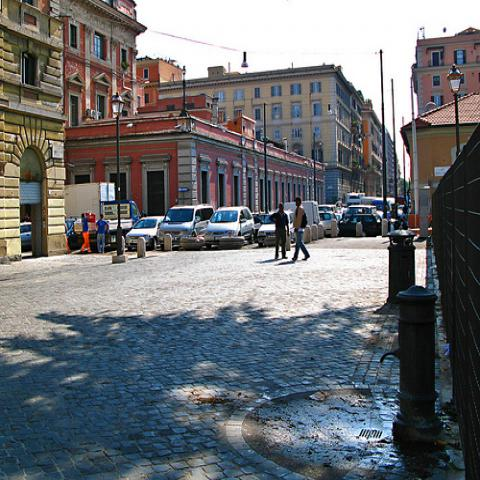car: (157, 206, 215, 250), (205, 206, 256, 248), (125, 216, 166, 251), (257, 212, 296, 246), (337, 214, 381, 238), (341, 204, 378, 218), (319, 212, 337, 235), (347, 192, 361, 206), (318, 205, 335, 211)
truck: (63, 181, 142, 249), (347, 192, 365, 206)
